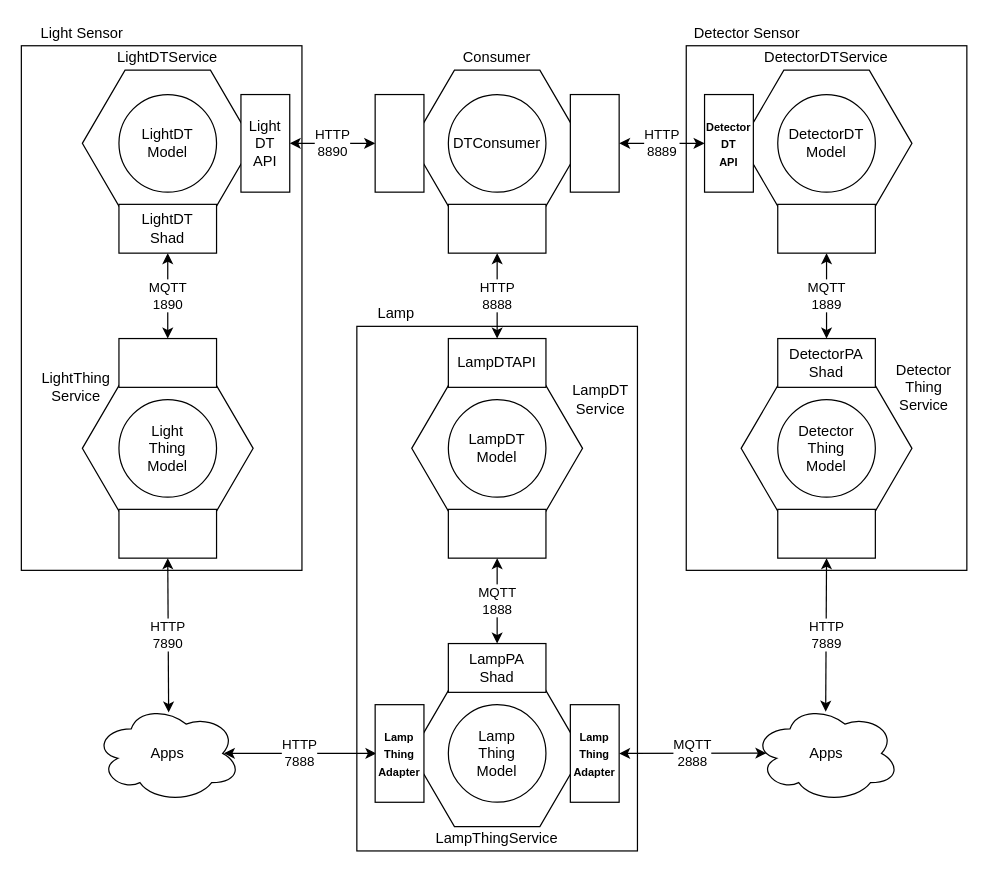
The diagram is 988 pixels wide and 872 high, and some of its shapes have lost their labels. Here are the shapes that lost their labels. From the top down, the box of each, then its label:
(374, 93, 424, 192): Light DT Proxy
(569, 93, 619, 192): Detector DT Proxy
(447, 203, 546, 253): LampDTProxy
(777, 203, 875, 253): DetectorDT Shad
(118, 337, 217, 387): LightPA Shad
(118, 508, 217, 558): LightThing Adapter
(447, 508, 546, 558): LampDT Shad
(777, 508, 875, 558): DetectorThing Adapter
